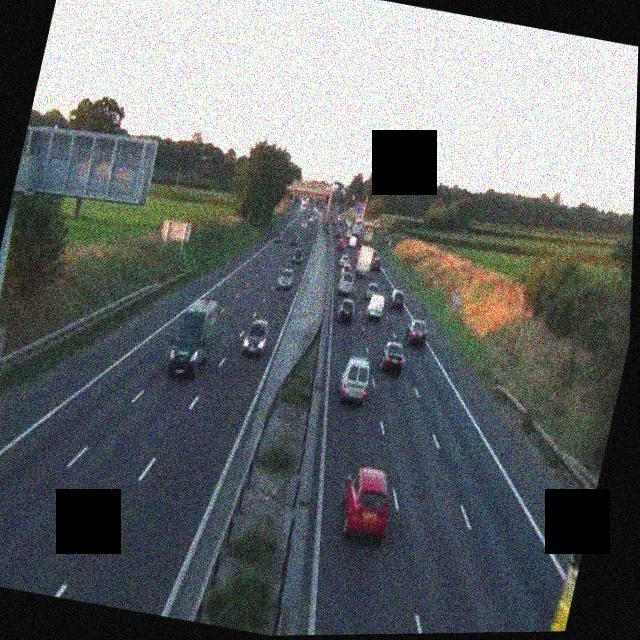car: (335, 464, 398, 543), (336, 354, 376, 406), (241, 315, 272, 359), (377, 338, 409, 375), (403, 316, 431, 348), (336, 299, 356, 326), (387, 286, 407, 311), (277, 267, 296, 290), (338, 270, 356, 294), (290, 245, 306, 265), (371, 256, 384, 271), (337, 236, 348, 251), (271, 230, 283, 243)
truck: (540, 480, 598, 632), (164, 292, 222, 383), (364, 288, 389, 323), (354, 240, 377, 276)
